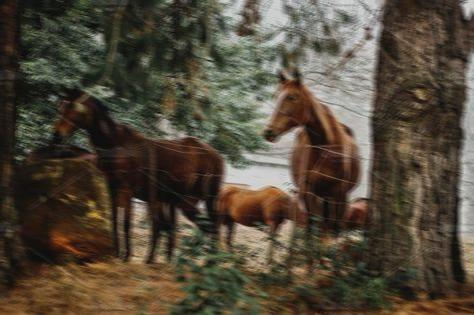horse: (50, 80, 226, 263), (260, 65, 362, 247), (215, 184, 308, 266)
